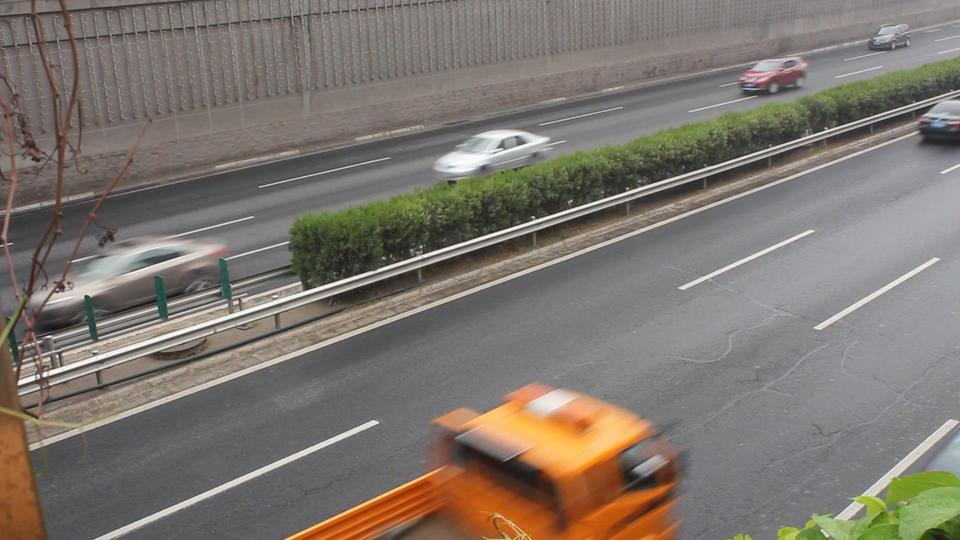car: (431, 129, 562, 180), (738, 57, 809, 95), (915, 99, 960, 144), (868, 23, 912, 50)
sign: (4, 236, 232, 331)
truck: (288, 383, 690, 540)
